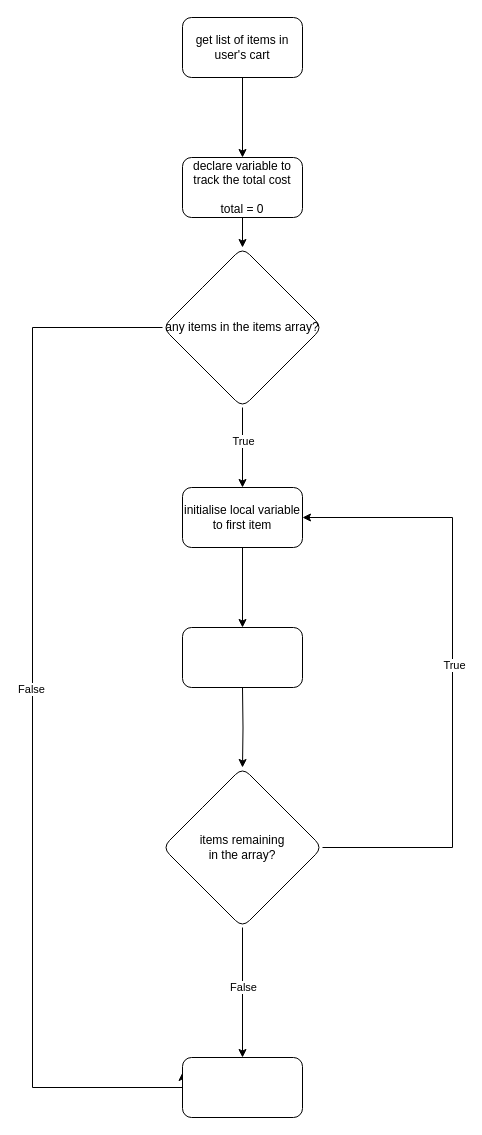
Some shapes in this 482 by 1135 pixel diagram are drawn without their labels. Here are the shapes that lost their labels. From the top down, the centre of each, then its label:
At point (242, 657): "add item cost to the total cost total += item".
At point (242, 1087): "print receipt with the total".
